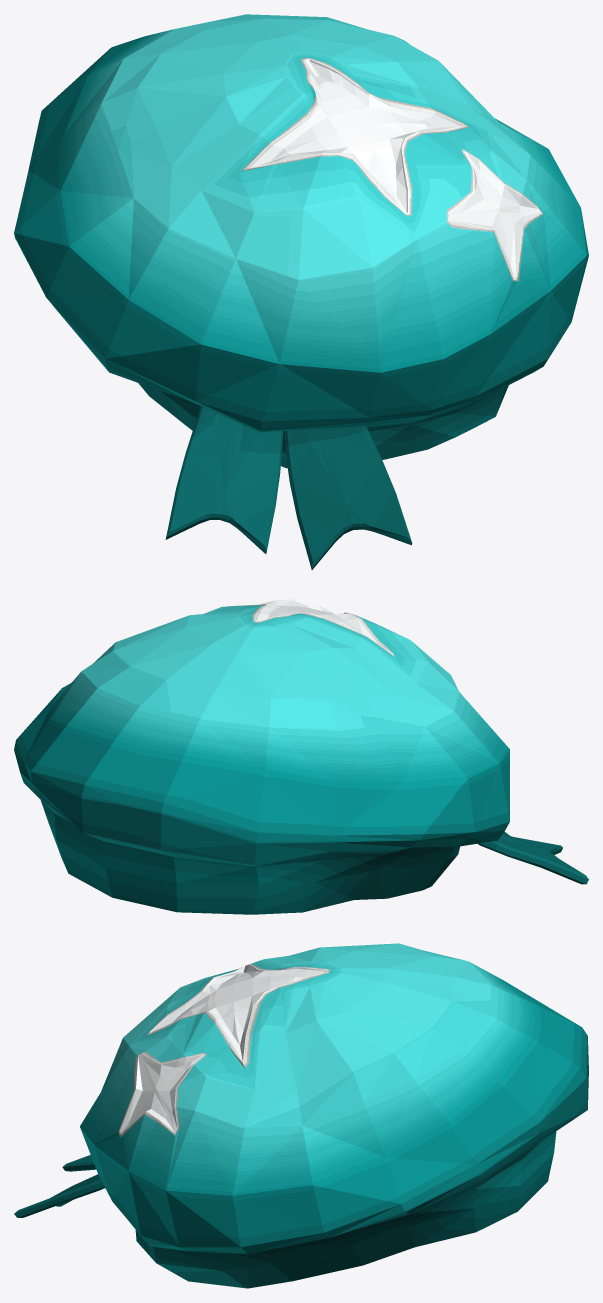
The model's file is CharSkyKid_Horn_BirthdayHat_02.glb.
The picture shows the model from 3 angles, top to bottom: view 1: azimuth 30°, elevation 25°; view 2: azimuth 150°, elevation 25°; view 3: azimuth 270°, elevation 25°; orthographic projection. The views are drawn at different scales.
Visible parts, largest first — view 1: CharSkyKid_Horn_BirthdayHat_02; view 2: CharSkyKid_Horn_BirthdayHat_02; view 3: CharSkyKid_Horn_BirthdayHat_02.
Part boxes in pixels (bbox=[...]): CharSkyKid_Horn_BirthdayHat_02: bbox=[14, 14, 588, 569]; CharSkyKid_Horn_BirthdayHat_02: bbox=[14, 599, 588, 914]; CharSkyKid_Horn_BirthdayHat_02: bbox=[14, 943, 588, 1288].
Size of the model in its own units: 2.84 by 1.9 by 3.31.
Materials: 1 (1 with a texture image).
